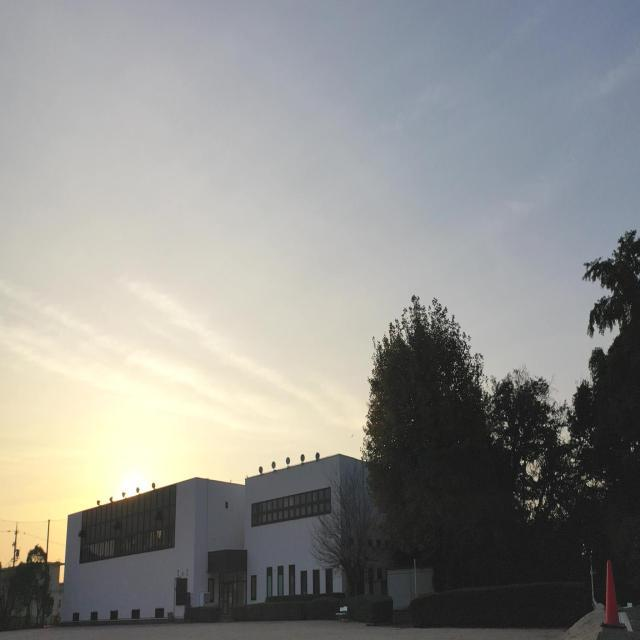Birds: (350, 432, 355, 438)
